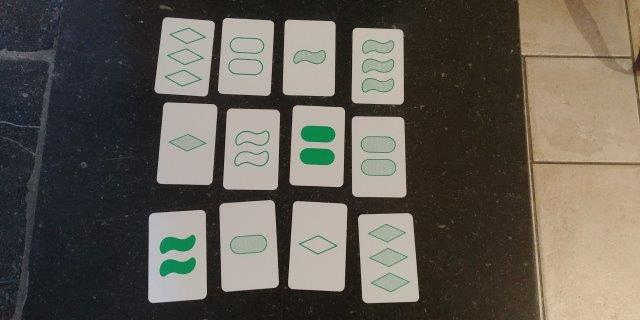1ED: (295, 204, 341, 288)
1HD: (165, 107, 211, 182)
1HP: (222, 207, 275, 285)
1HW: (287, 22, 333, 93)
2EP: (224, 21, 269, 93)
2EW: (229, 112, 276, 188)
2FP: (295, 109, 340, 185)
2FW: (152, 217, 203, 296)
2HP: (354, 119, 403, 195)
3ED: (162, 22, 206, 91)
3HD: (364, 215, 412, 299)
3HW: (355, 31, 401, 104)
